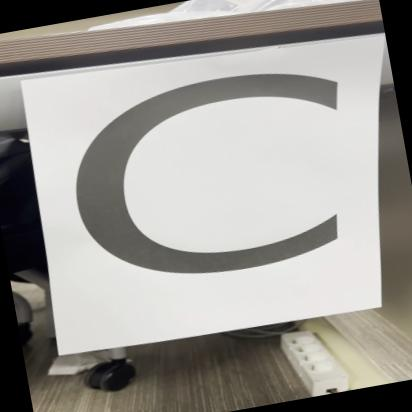seat: (30, 25, 390, 359)
